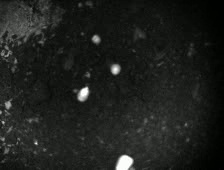corn: (111, 151, 135, 170), (72, 83, 92, 103), (106, 59, 123, 77), (89, 30, 102, 45)
